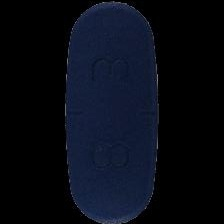66116-482: (0, 0, 224, 224)
